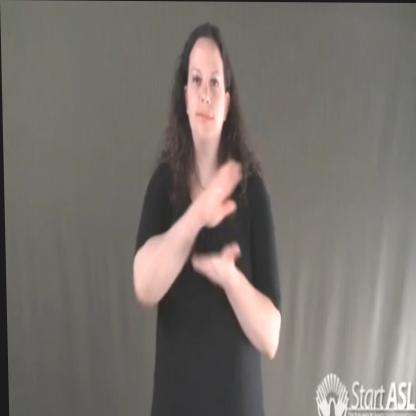NiceToMeetYou: (180, 157, 258, 279)
